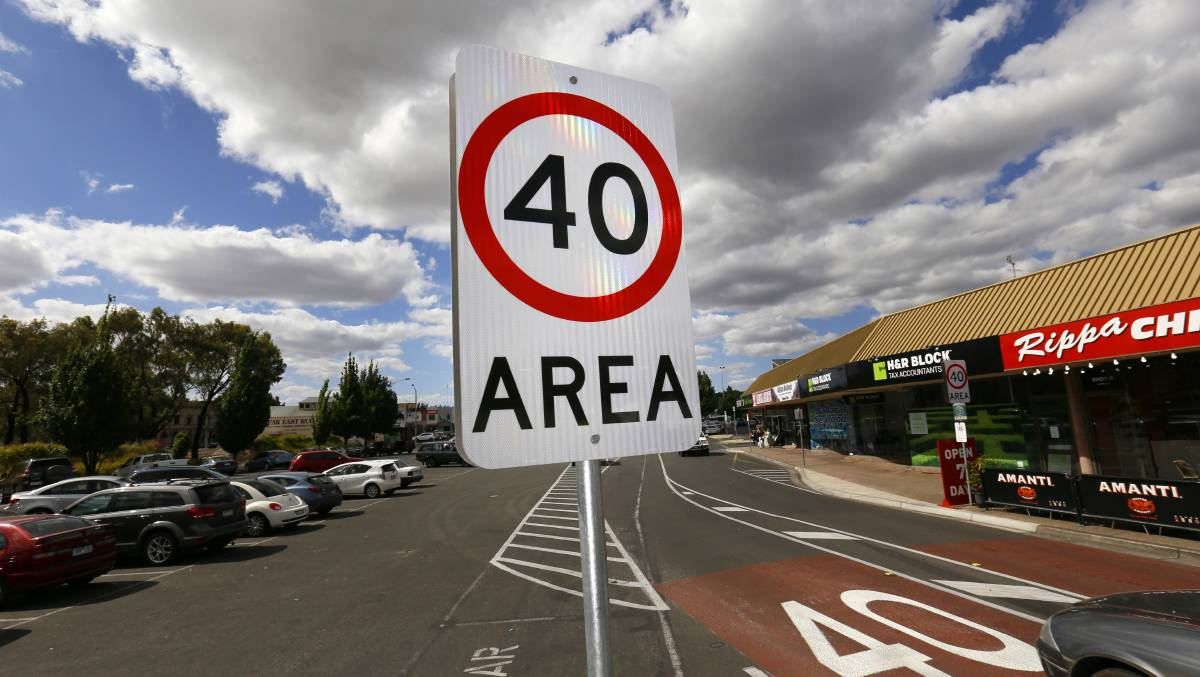40 Km/hr: (461, 92, 685, 322)
